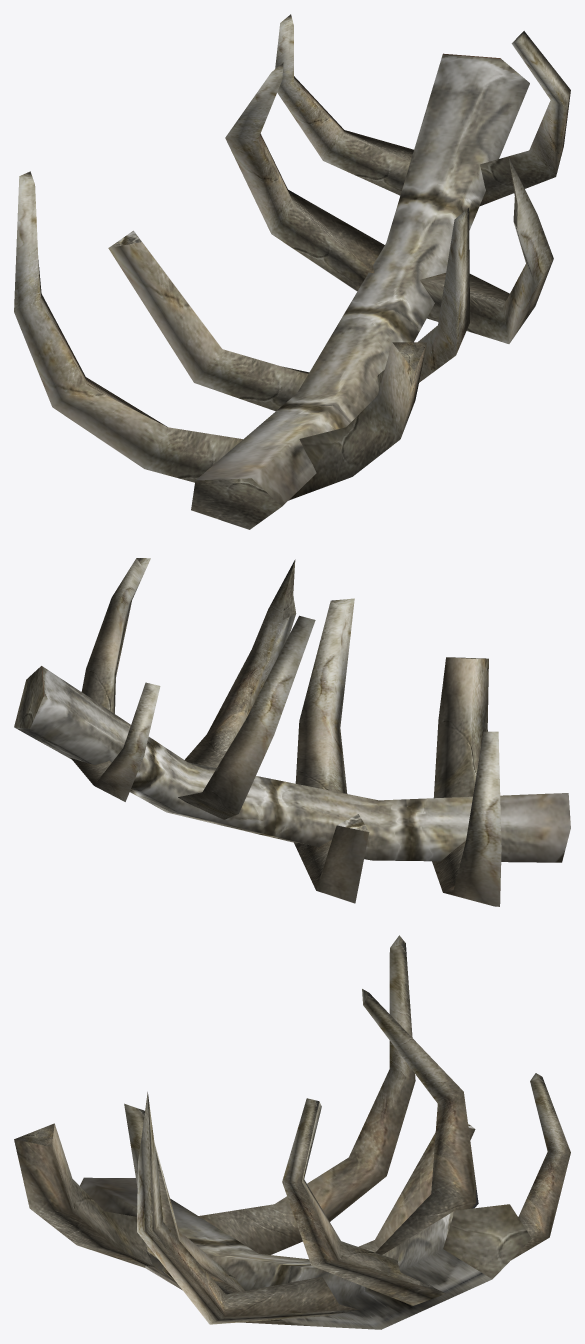
The model's file is D_jizhuigu001.fbx.
3 views of the same model, one above another, from view 1: azimuth 30°, elevation 25°; view 2: azimuth 150°, elevation 25°; view 3: azimuth 270°, elevation 25° (orthographic). The views are drawn at different scales.
Parts seen in each view (by area): view 1: D_jizhuigu001; view 2: D_jizhuigu001; view 3: D_jizhuigu001.
Part boxes in pixels (x1,y1,x2,y2): D_jizhuigu001: (14, 14, 570, 529); D_jizhuigu001: (14, 558, 570, 906); D_jizhuigu001: (14, 935, 570, 1329).
Bounding box in the file's own units: 82.05 × 48.5 × 73.46.
